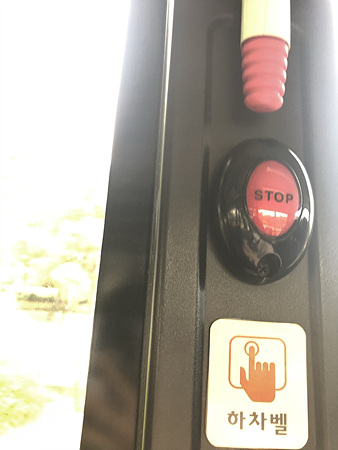bell: (213, 138, 315, 281)
